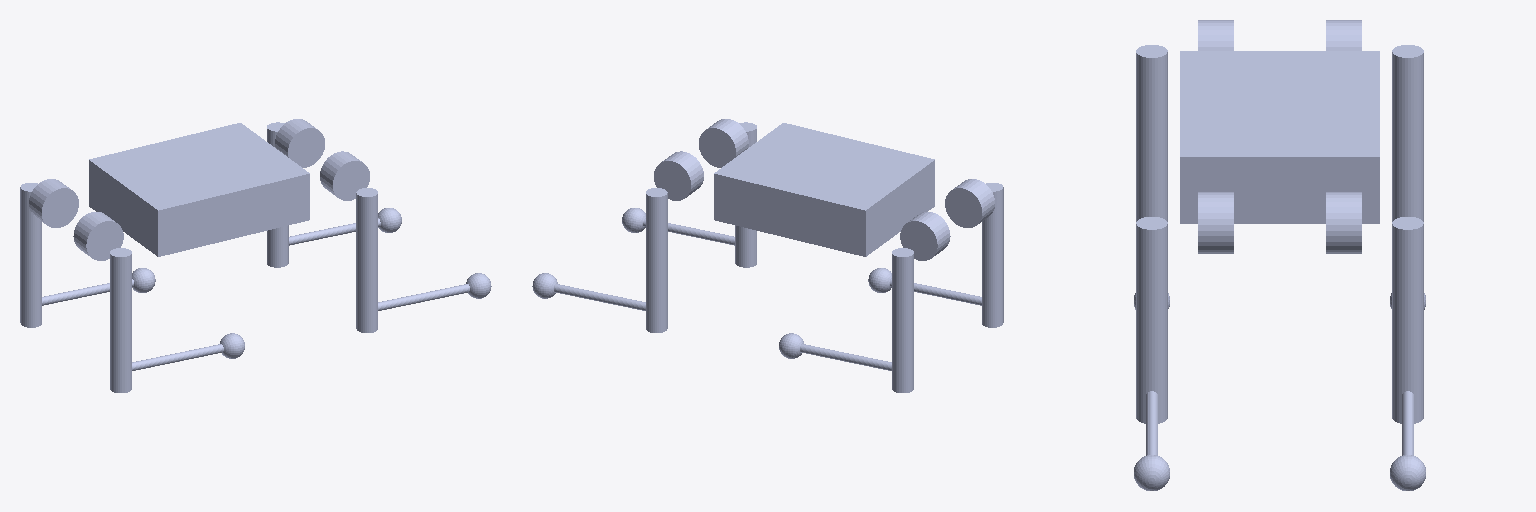
URDF robot description (PongBot_R_V1.0):
<?xml version="1.0" encoding="utf-8"?>
<!-- This URDF was automatically created by SolidWorks to URDF Exporter! Originally created by [author] ([email redacted]) 
     Commit Version: 1.6.0-4-g7f85cfe  Build Version: 1.6.7995.38578
     For more information, please see http://wiki.ros.org/sw_urdf_exporter -->
<robot
  name="PongBot_R_V1.0">
  <link
    name="BODY">
    <inertial>
      <origin
        xyz="-0.00654811 -0.00370864 -0.00412211"
        rpy="0 0 0" />
      <mass
        value="34.01149347" />         <!-- 기존에 가져온 값 : 30.49349326 -->
      <inertia
        ixx="0.41021871"
        ixy="-0.01410035"
        ixz="0.00530174"
        iyy="1.27775339"
        iyz="-0.00002209"
        izz="1.61653207" />
    </inertial>
    <visual>
      <origin
        xyz="0 0 0"
        rpy="0 0 0" />
      <geometry>
        <!-- <mesh -->
          <!-- filename="../meshes/BODY.STL" /> -->
        <box size = "0.478 0.38 0.14"/>  
      </geometry>
      <material
        name="">
        <color
          rgba="0.79216 0.81961 0.93333 1" />
      </material>
    </visual>
    <collision>
      <origin
        xyz="0 0 0"
        rpy="0 0 0" />
      <geometry>
        <!-- <mesh -->
          <!-- filename="../meshes/BODY.STL" /> -->
        <box size = "0.478 0.38 0.14"/>  
      </geometry>
    </collision>
  </link>

  <link
    name="FL_HIP">
    <inertial>
      <origin
        xyz="-0.00531965 -0.03425838 -0.00012951"
        rpy="0 0 0" />
      <mass
        value="2.73800000" />                        <!-- 기존에 가져온 값 : 2.56168131 -->
      <inertia
        ixx="0.00418335"
        ixy="0.00056030"
        ixz="-0.00003915"
        iyy="0.00565772"
        iyz="0.00002505"
        izz="0.00430654" />
    </inertial>
    <visual>
      <origin
        xyz="0 0.02 0"
        rpy="-1.5708 0 0" />
      <geometry>
        <!-- <mesh -->
          <!-- filename="../meshes/FL_HIP.STL" /> -->
        <cylinder radius="0.059" length="0.07" />
      </geometry>
      <material
        name="">
        <color
          rgba="0.79216 0.81961 0.93333 1" />
      </material>
    </visual>
    <!-- <collision>
      <origin
        xyz="0 0 0"
        rpy="0 0 0" />
      <geometry>
        <mesh
          filename="../meshes/FL_HIP.STL" />
      </geometry>
    </collision> -->
  </link>
  <joint
    name="FL_HR_JOINT"
    type="revolute">
    <origin
      xyz="0.3875 0.102 0"
      rpy="0 0 0" />
    <parent
      link="BODY" />
    <child
      link="FL_HIP" />
    <axis
      xyz="1 0 0" />
    <limit
      lower="-0.349066"
      upper="0.349066"
      effort="200"
      velocity="13" />      
      <!-- effor = 27A 기준으로 해둠 -->
  </joint>
  <link
    name="FL_THIGH">
    <inertial>
      <origin
        xyz="-0.00684056 -0.04704750 -0.05190486"
        rpy="0 0 0" />
      <mass
        value="5.66665000" />
      <inertia
        ixx="0.07631273"
        ixy="0.00182006"
        ixz="-0.00420065"
        iyy="0.06908437"
        iyz="0.01380510"
        izz="0.01790240" />
    </inertial>
    <visual>
      <origin
        xyz="0 0 -0.2045"
        rpy="0 0 0" />
      <geometry>
        <!-- <mesh -->
          <!-- filename="../meshes/FL_THIGH.STL" /> -->
        <cylinder radius="0.030" length="0.409"/>
      </geometry>
      <material
        name="">
        <color
          rgba="0.79216 0.81961 0.93333 1" />
      </material>
    </visual>

    <collision>
      <origin
        xyz="0 0 0"
        rpy="1.5709 0 0" />
      <geometry>
        <!-- <mesh
          filename="../meshes/FL_THIGH.STL" /> -->
        <cylinder radius="0.059" length="0.050"/>
      </geometry>
    </collision>
    
    <collision>
      <origin
        xyz="-0.029 0 -0.0995"
        rpy="0 0 0" />
      <geometry>
        <!-- <mesh
          filename="../meshes/FL_THIGH.STL" /> -->
        <box size="0.060 0.050 0.3"/>
      </geometry>
    </collision>
  </link>
  <joint
    name="FL_HP_JOINT"
    type="revolute">
    <origin
      xyz="0 0.142 0"
      rpy="0 0 0" />
    <parent
      link="FL_HIP" />
    <child
      link="FL_THIGH" />
    <axis
      xyz="0 1 0" />
    <limit
      lower="-0.366519"
      upper="1.5708"
      effort="200"
      velocity="13" />
  </joint>
  <link
    name="FL_CALF">
    <inertial>
      <origin
        xyz="0.00814028 0 -0.0924456"
        rpy="0 0 0" />
      <mass
        value="0.75531736" />
      <inertia
        ixx="0.00815522"
        ixy="0"
        ixz="0.00056185"
        iyy="0.00823583"
        iyz="0"
        izz="0.00016373" />
    </inertial>
    <visual>
      <origin
        xyz="0 0 -0.18"
        rpy="0 0 0" />
      <geometry>
        <!-- <mesh
          filename="../meshes/FL_CALF.STL" /> -->
        <cylinder radius="0.012" length="0.36"/>
      </geometry>
      <material
        name="">
        <color
          rgba="0.79216 0.81961 0.93333 1" />
      </material>
    </visual>
    <collision>
      <origin
        xyz="0 0 0"
        rpy="0 0 0" />
      <geometry>
        <mesh
          filename="../meshes/FL_CALF.STL" />
      </geometry>
    </collision>
  </link>
  <joint
    name="FL_KN_JOINT"
    type="revolute">
    <origin
      xyz="0 0 -0.35"
      rpy="0 0 0" />
    <parent
      link="FL_THIGH" />
    <child
      link="FL_CALF" />
    <axis
      xyz="0 1 0" />
    <limit
      lower="-2.58309"
      upper="-0.488692"
      effort="200"
      velocity="13" />
  </joint>
  <link
    name="FL_TIP">
    <inertial>
      <origin
        xyz="-0.0016622 -9.048E-05 -0.00113793"
        rpy="0 0 0" />
      <mass
        value="0.124" />
      <inertia
        ixx="5.248E-05"
        ixy="0"
        ixz="-7.12E-06"
        iyy="5.749E-05"
        iyz="1E-08"
        izz="4.442E-05" />
    </inertial>
    <visual>
      <origin
        xyz="0 0 0"
        rpy="0 0 0" />
      <geometry>
        <!-- <mesh
          filename="../meshes/FL_TIP.STL" /> -->
        <sphere radius="0.035246577"/>
      </geometry>
      <material
        name="">
        <color
          rgba="0.79216 0.81961 0.93333 1" />
      </material>
    </visual>
    <collision>
      <origin
        xyz="0 0 0"
        rpy="0 0 0" />
      <geometry>
        <!-- <mesh
          filename="../meshes/FL_TIP.STL" /> -->
        <sphere radius="0.035246577"/>
      </geometry>
    </collision>
  </link>
  <joint
    name="FL_TIP_JOINT"
    type="fixed">
    <origin
      xyz="0 0 -0.35"
      rpy="0 0 0" />
    <parent
      link="FL_CALF" />
    <child
      link="FL_TIP" />
    <axis
      xyz="0 0 0" />
  </joint>

  <link
    name="FR_HIP">
    <inertial>
      <origin
        xyz="-0.00528573 0.03425838 -0.00007847"
        rpy="0 0 0" />
      <mass
        value="2.73800000" />                              <!-- 2.56168131 -->
      <inertia
        ixx="0.00418247"
        ixy="-0.00056353"
        ixz="-0.00003878"
        iyy="0.00565874"
        iyz="-0.00002992"
        izz="0.00430844" />
    </inertial>
    <visual>
      <origin
        xyz="0 -0.02 0"
        rpy="-1.5708 0 0" />
      <geometry>
        <!-- <mesh
          filename="../meshes/FR_HIP.STL" /> -->
        <cylinder radius="0.059" length="0.07" />
      </geometry>
      <material
        name="">
        <color
          rgba="0.79216 0.81961 0.93333 1" />
      </material>
    </visual>
    <!-- <collision>
      <origin
        xyz="0 0 0"
        rpy="0 0 0" />
      <geometry>
        <mesh
          filename="../meshes/FR_HIP.STL" />
      </geometry>
    </collision> -->
  </link>
  <joint
    name="FR_HR_JOINT"
    type="revolute">
    <origin
      xyz="0.3875 -0.102 0"
      rpy="0 0 0" />
    <parent
      link="BODY" />
    <child
      link="FR_HIP" />
    <axis
      xyz="1 0 0" />
    <limit
      lower="-0.349066"
      upper="0.349066"
      effort="200"
      velocity="13" />
  </joint>
  <link
    name="FR_THIGH">
    <inertial>
      <origin
        xyz="-0.00682391 0.04704750 -0.05178585"
        rpy="0 0 0" />
      <mass
        value="5.66665000" />
      <inertia
        ixx="0.07625584"
        ixy="-0.00179078"
        ixz="-0.00415400"
        iyy="0.06900427"
        iyz="-0.01378723"
        izz="0.01787918" />
    </inertial>
    <visual>
      <origin
        xyz="0 0 -0.2045"
        rpy="0 0 0" />
      <geometry>
        <!-- <mesh
          filename="../meshes/FR_THIGH.STL" /> -->
        <cylinder radius="0.030" length="0.409"/>
      </geometry>
      <material
        name="">
        <color
          rgba="0.79216 0.81961 0.93333 1" />
      </material>
    </visual>

    <collision>
      <origin
        xyz="0 0 0"
        rpy="1.5709 0 0" />
      <geometry>
        <!-- <mesh
          filename="../meshes/FR_THIGH.STL" /> -->
        <cylinder radius="0.059" length="0.050"/>
      </geometry>
    </collision>

    <collision>
      <origin
        xyz="-0.029 0 -0.0995"
        rpy="0 0 0" />
      <geometry>
        <!-- <mesh
          filename="../meshes/FR_THIGH.STL" /> -->
        <box size="0.060 0.050 0.3"/>
      </geometry>
    </collision>
  </link>
  <joint
    name="FR_HP_JOINT"
    type="revolute">
    <origin
      xyz="0 -0.142 0"
      rpy="0 0 0" />
    <parent
      link="FR_HIP" />
    <child
      link="FR_THIGH" />
    <axis
      xyz="0 1 0" />
    <limit
      lower="-0.366519"
      upper="1.5708"
      effort="200"
      velocity="13" />
  </joint>
  <link
    name="FR_CALF">
    <inertial>
      <origin
        xyz="0.00814028 0 -0.0924456"
        rpy="0 0 0" />
      <mass
        value="0.75531736" />
      <inertia
        ixx="0.00815522"
        ixy="0"
        ixz="0.00056185"
        iyy="0.00823583"
        iyz="0"
        izz="0.00016373" />
    </inertial>
    <visual>
      <origin
        xyz="0 0 -0.18"
        rpy="0 0 0" />
      <geometry>
        <!-- <mesh
          filename="../meshes/FR_CALF.STL" /> -->
        <cylinder radius="0.012" length="0.36"/>
      </geometry>
      <material
        name="">
        <color
          rgba="0.79216 0.81961 0.93333 1" />
      </material>
    </visual>
    <collision>
      <origin
        xyz="0 0 0"
        rpy="0 0 0" />
      <geometry>
        <mesh
          filename="../meshes/FR_CALF.STL" />
      </geometry>
    </collision>
  </link>
  <joint
    name="FR_KN_JOINT"
    type="revolute">
    <origin
      xyz="0 0 -0.35"
      rpy="0 0 0" />
    <parent
      link="FR_THIGH" />
    <child
      link="FR_CALF" />
    <axis
      xyz="0 1 0" />
    <limit
      lower="-2.58309"
      upper="-0.488692"
      effort="200"
      velocity="13" />
  </joint>
  <link
    name="FR_TIP">
    <inertial>
      <origin
        xyz="-0.0016622 -9.048E-05 -0.00113793"
        rpy="0 0 0" />
      <mass
        value="0.124" />
      <inertia
        ixx="5.248E-05"
        ixy="0"
        ixz="-7.12E-06"
        iyy="5.749E-05"
        iyz="1E-08"
        izz="4.442E-05" />
    </inertial>
    <visual>
      <origin
        xyz="0 0 0"
        rpy="0 0 0" />
      <geometry>
        <!-- <mesh -->
          <!-- filename="../meshes/FR_TIP.STL" /> -->
        <sphere radius="0.035246577"/>
      </geometry>
      <material
        name="">
        <color
          rgba="0.79216 0.81961 0.93333 1" />
      </material>
    </visual>
    <collision>
      <origin
        xyz="0 0 0"
        rpy="0 0 0" />
      <geometry>
        <!-- <mesh
          filename="../meshes/FR_TIP.STL" /> -->
        <sphere radius="0.035246577"/>
      </geometry>
    </collision>
  </link>
  <joint
    name="FR_TIP_JOINT"
    type="fixed">
    <origin
      xyz="0 0 -0.35"
      rpy="0 0 0" />
    <parent
      link="FR_CALF" />
    <child
      link="FR_TIP" />
    <axis
      xyz="0 0 0" />
  </joint>

  <link
    name="RL_HIP">
    <inertial>
      <origin
        xyz="0.00531965 -0.03425838 -0.00029224"
        rpy="0 0 0" />
      <mass
        value="2.73800000" />                          <!-- 2.56168131 -->
      <inertia
        ixx="0.00418316"
        ixy="-0.00056030"
        ixz="0.00001821"
        iyy="0.00565753"
        iyz="0.00001451"
        izz="0.00430654" />
    </inertial>
    <visual>
      <origin
        xyz="0 0.02 0"
        rpy="-1.5708 0 0" />
      <geometry>
        <!-- <mesh
          filename="../meshes/RL_HIP.STL" /> -->
        <cylinder radius="0.059" length="0.07" />
      </geometry>
      <material
        name="">
        <color
          rgba="0.79216 0.81961 0.93333 1" />
      </material>
    </visual>
    <!-- <collision>
      <origin
        xyz="0 0 0"
        rpy="0 0 0" />
      <geometry>
        <mesh
          filename="../meshes/RL_HIP.STL" />
      </geometry>
    </collision> -->
  </link>
  <joint
    name="RL_HR_JOINT"
    type="revolute">
    <origin
      xyz="-0.3875 0.102 0"
      rpy="0 0 0" />
    <parent
      link="BODY" />
    <child
      link="RL_HIP" />
    <axis
      xyz="1 0 0" />
    <limit
      lower="-0.349066"
      upper="0.349066"
      effort="200"
      velocity="13" />
  </joint>
  <link
    name="RL_THIGH">
    <inertial>
      <origin
        xyz="-0.00691464 -0.04704750 -0.05199316"
        rpy="0 0 0" />
      <mass
        value="5.66665000" />
      <inertia
        ixx="0.07626074"
        ixy="0.00178209"
        ixz="-0.00417540"
        iyy="0.06902662"
        iyz="0.01375985"
        izz="0.01789662" />
    </inertial>
    <visual>
      <origin
        xyz="0 0 -0.2045"
        rpy="0 0 0" />
      <geometry>
        <!-- <mesh
          filename="../meshes/RL_THIGH.STL" /> -->
        <cylinder radius="0.030" length="0.409"/>
      </geometry>
      <material
        name="">
        <color
          rgba="0.79216 0.81961 0.93333 1" />
      </material>
    </visual>

    <collision>
      <origin
        xyz="0 0 0"
        rpy="1.5709 0 0" />
      <geometry>
        <!-- <mesh
          filename="../meshes/RL_THIGH.STL" /> -->
        <cylinder radius="0.059" length="0.050"/>
      </geometry>
    </collision>

    <collision>
      <origin
        xyz="-0.029 0 -0.0995"
        rpy="0 0 0" />
      <geometry>
        <!-- <mesh
          filename="../meshes/RL_THIGH.STL" /> -->
        <box size="0.060 0.050 0.3"/>
      </geometry>
    </collision>

  </link>
  <joint
    name="RL_HP_JOINT"
    type="revolute">
    <origin
      xyz="0 0.142 0"
      rpy="0 0 0" />
    <parent
      link="RL_HIP" />
    <child
      link="RL_THIGH" />
    <axis
      xyz="0 1 0" />
    <limit
      lower="-0.366519"
      upper="1.5708"
      effort="200"
      velocity="13" />
  </joint>
  <link
    name="RL_CALF">
    <inertial>
      <origin
        xyz="0.00814028 0 -0.0924456"
        rpy="0 0 0" />
      <mass
        value="0.75531736" />
      <inertia
        ixx="0.00815522"
        ixy="0"
        ixz="0.00056185"
        iyy="0.00823583"
        iyz="0"
        izz="0.00016373" />
    </inertial>
    <visual>
      <origin
        xyz="0 0 -0.18"
        rpy="0 0 0" />
      <geometry>
        <!-- <mesh -->
          <!-- filename="../meshes/RL_CALF.STL" /> -->
        <cylinder radius="0.012" length="0.36"/>
      </geometry>
      <material
        name="">
        <color
          rgba="0.79216 0.81961 0.93333 1" />
      </material>
    </visual>
    <collision>
      <origin
        xyz="0 0 0"
        rpy="0 0 0" />
      <geometry>
        <mesh
          filename="../meshes/RL_CALF.STL" />
      </geometry>
    </collision>
  </link>
  <joint
    name="RL_KN_JOINT"
    type="revolute">
    <origin
      xyz="0 0 -0.35"
      rpy="0 0 0" />
    <parent
      link="RL_THIGH" />
    <child
      link="RL_CALF" />
    <axis
      xyz="0 1 0" />
    <limit
      lower="-2.58309"
      upper="-0.488692"
      effort="200"
      velocity="13" />
  </joint>
  <link
    name="RL_TIP">
    <inertial>
      <origin
        xyz="-0.0016622 -9.048E-05 -0.0011379"
        rpy="0 0 0" />
      <mass
        value="0.124" />
      <inertia
        ixx="5.248E-05"
        ixy="0"
        ixz="-7.12E-06"
        iyy="5.749E-05"
        iyz="1E-08"
        izz="4.442E-05" />
    </inertial>
    <visual>
      <origin
        xyz="0 0 0"
        rpy="0 0 0" />
      <geometry>
        <!-- <mesh
          filename="../meshes/RL_TIP.STL" /> -->
        <sphere radius="0.035246577"/>
      </geometry>
      <material
        name="">
        <color
          rgba="0.79216 0.81961 0.93333 1" />
      </material>
    </visual>
    <collision>
      <origin
        xyz="0 0 0"
        rpy="0 0 0" />
      <geometry>
        <!-- <mesh
          filename="../meshes/RL_TIP.STL" /> -->
        <sphere radius="0.035246577"/>
      </geometry>
    </collision>
  </link>
  <joint
    name="RL_TIP_JOINT"
    type="fixed">
    <origin
      xyz="0 0 -0.35"
      rpy="0 0 0" />
    <parent
      link="RL_CALF" />
    <child
      link="RL_TIP" />
    <axis
      xyz="0 0 0" />
  </joint>

  <link
    name="RR_HIP">
    <inertial>
      <origin
        xyz="0.00527649 0.03425838 -0.00034165"
        rpy="0 0 0" />
      <mass
        value="2.73800000" />                            <!-- 2.56168131 -->
      <inertia
        ixx="0.00418243"
        ixy="0.00056430"
        ixz="0.00001835"
        iyy="0.00565870"
        iyz="-0.00000979"
        izz="0.00430844" />
    </inertial>
    <visual>
      <origin
        xyz="0 -0.02 0"
        rpy="-1.5708 0 0" />
      <geometry>
        <!-- <mesh
          filename="../meshes/RR_HIP.STL" /> -->
        <cylinder radius="0.059" length="0.07" />
      </geometry>
      <material
        name="">
        <color
          rgba="0.79216 0.81961 0.93333 1" />
      </material>
    </visual>
    <!-- <collision>
      <origin
        xyz="0 0 0"
        rpy="0 0 0" />
      <geometry>
        <mesh
          filename="../meshes/RR_HIP.STL" />
      </geometry>
    </collision> -->
  </link>
  <joint
    name="RR_HR_JOINT"
    type="revolute">
    <origin
      xyz="-0.3875 -0.102 0"
      rpy="0 0 0" />
    <parent
      link="BODY" />
    <child
      link="RR_HIP" />
    <axis
      xyz="1 0 0" />
    <limit
      lower="-0.349066"
      upper="0.349066"
      effort="200"
      velocity="13" />
  </joint>
  <link
    name="RR_THIGH">
    <inertial>
      <origin
        xyz="-0.00686333 0.04704750 -0.05189416"
        rpy="0 0 0" />
      <mass
        value="5.66665000" />
      <inertia
        ixx="0.07619221"
        ixy="-0.00177057"
        ixz="-0.00413822"
        iyy="0.06893758"
        iyz="-0.01373171"
        izz="0.01787612" />
    </inertial>
    <visual>
      <origin
        xyz="0 0 -0.2045"
        rpy="0 0 0" />
      <geometry>
        <!-- <mesh
          filename="../meshes/RR_THIGH.STL" /> -->
        <cylinder radius="0.030" length="0.409"/>
      </geometry>
      <material
        name="">
        <color
          rgba="0.79216 0.81961 0.93333 1" />
      </material>
    </visual>
    <collision>
      <origin
        xyz="0 0 0"
        rpy="1.5709 0 0" />
      <geometry>
        <!-- <mesh
          filename="../meshes/RR_THIGH.STL" /> -->
        <cylinder radius="0.059" length="0.050"/>
      </geometry>
    </collision>
    <collision>
      <origin
        xyz="-0.029 0 -0.0995"
        rpy="0 0 0" />
      <geometry>
        <!-- <mesh
          filename="../meshes/RR_THIGH.STL" /> -->
        <box size="0.060 0.050 0.3"/>
      </geometry>
    </collision>
  </link>
  <joint
    name="RR_HP_JOINT"
    type="revolute">
    <origin
      xyz="0 -0.142 0"
      rpy="0 0 0" />
    <parent
      link="RR_HIP" />
    <child
      link="RR_THIGH" />
    <axis
      xyz="0 1 0" />
    <limit
      lower="-0.366519"
      upper="1.5708"
      effort="200"
      velocity="13" />
  </joint>
  <link
    name="RR_CALF">
    <inertial>
      <origin
        xyz="0.0081403 0 -0.092446"
        rpy="0 0 0" />
      <mass
        value="0.75532" />
      <inertia
        ixx="0.0081552"
        ixy="0"
        ixz="0.00056185"
        iyy="0.0082358"
        iyz="0"
        izz="0.00016373" />
    </inertial>
    <visual>
      <origin
        xyz="0 0 -0.18"
        rpy="0 0 0" />
      <geometry>
        <!-- <mesh
          filename="../meshes/RR_CALF.STL" /> -->
        <cylinder radius="0.012" length="0.36"/>
      </geometry>
      <material
        name="">
        <color
          rgba="0.79216 0.81961 0.93333 1" />
      </material>
    </visual>
    <collision>
      <origin
        xyz="0 0 0"
        rpy="0 0 0" />
      <geometry>
        <mesh
          filename="../meshes/RR_CALF.STL" />
      </geometry>
    </collision>
  </link>
  <joint
    name="RR_KN_JOINT"
    type="revolute">
    <origin
      xyz="0 0 -0.35"
      rpy="0 0 0" />
    <parent
      link="RR_THIGH" />
    <child
      link="RR_CALF" />
    <axis
      xyz="0 1 0" />
    <limit
      lower="-2.58309"
      upper="-0.488692"
      effort="200"
      velocity="13" />
  </joint>
  <link
    name="RR_TIP">
    <inertial>
      <origin
        xyz="-0.0016622 -9.048E-05 -0.00113793"
        rpy="0 0 0" />
      <mass
        value="0.124" />
      <inertia
        ixx="5.248E-05"
        ixy="0"
        ixz="-7.12E-06"
        iyy="5.749E-05"
        iyz="1E-08"
        izz="4.442E-05" />
    </inertial>
    <visual>
      <origin
        xyz="0 0 0"
        rpy="0 0 0" />
      <geometry>
        <!-- <mesh
          filename="../meshes/RR_TIP.STL" /> -->
        <sphere radius="0.035246577"/>
      </geometry>
      <material
        name="">
        <color
          rgba="0.79216 0.81961 0.93333 1" />
      </material>
    </visual>
    <collision>
      <origin
        xyz="0 0 0"
        rpy="0 0 0" />
      <geometry>
        <!-- <mesh
          filename="../meshes/RR_TIP.STL" /> -->
        <sphere radius="0.035246577"/>
      </geometry>
    </collision>
  </link>
  <joint
    name="RR_TIP_JOINT"
    type="fixed">
    <origin
      xyz="0 0 -0.35"
      rpy="0 0 0" />
    <parent
      link="RR_CALF" />
    <child
      link="RR_TIP" />
    <axis
      xyz="0 0 0" />
  </joint>
</robot>

--- Facts derived from the render (not from the file) ---
The picture shows the robot from 3 angles, left to right: view 1: azimuth 30°, elevation 25°; view 2: azimuth 150°, elevation 25°; view 3: azimuth 270°, elevation 25°; orthographic projection.
Model PongBot_R_V1.0 with 17 links and 16 joints (12 revolute, 4 fixed), rooted at BODY, posed joints at zero except 4 at the middle of their limits (FL_KN_JOINT = -1.54, FR_KN_JOINT = -1.54, RL_KN_JOINT = -1.54, RR_KN_JOINT = -1.54).
Visible links, largest first — view 1: BODY, RR_THIGH, FR_THIGH, RL_THIGH, RL_HIP, FR_HIP, RR_HIP, FL_HIP, FL_THIGH, FR_CALF, RR_CALF, RL_CALF (+1 smaller); view 2: BODY, RL_THIGH, FL_THIGH, RR_THIGH, RR_HIP, FL_HIP, RL_HIP, FR_HIP, FR_THIGH, FL_CALF, RL_CALF, RR_CALF (+1 smaller); view 3: BODY, FL_THIGH, FR_THIGH, RL_THIGH, RR_THIGH, FL_HIP, FR_HIP, RL_HIP, RR_HIP, FL_TIP, FR_TIP, FL_CALF (+1 smaller).
Boxes of the visible links, x1,y1,x2,y2 form: BODY: [89, 123, 309, 256]; RR_THIGH: [110, 248, 131, 392]; FR_THIGH: [356, 188, 377, 332]; RL_THIGH: [20, 183, 41, 327]; RL_HIP: [29, 179, 78, 227]; FR_HIP: [320, 151, 369, 200]; RR_HIP: [73, 212, 123, 260]; FL_HIP: [275, 119, 324, 167]; FL_THIGH: [267, 122, 288, 267]; FR_CALF: [378, 284, 469, 310]; RR_CALF: [132, 344, 223, 370]; RL_CALF: [42, 279, 133, 305]; BODY: [714, 123, 934, 256]; RL_THIGH: [892, 248, 913, 392]; FL_THIGH: [646, 188, 667, 332]; RR_THIGH: [982, 183, 1003, 327]; RR_HIP: [945, 179, 994, 227]; FL_HIP: [654, 151, 703, 200]; RL_HIP: [900, 212, 950, 260]; FR_HIP: [699, 119, 748, 167]; FR_THIGH: [735, 122, 756, 267]; FL_CALF: [554, 284, 645, 310]; RL_CALF: [800, 344, 891, 370]; RR_CALF: [890, 279, 981, 305]; BODY: [1180, 51, 1379, 223]; FL_THIGH: [1392, 217, 1423, 423]; FR_THIGH: [1136, 217, 1167, 423]; RL_THIGH: [1392, 45, 1423, 221]; RR_THIGH: [1136, 45, 1167, 221]; FL_HIP: [1326, 192, 1361, 253]; FR_HIP: [1198, 192, 1233, 253]; RL_HIP: [1326, 20, 1361, 50]; RR_HIP: [1198, 20, 1233, 50]; FL_TIP: [1390, 455, 1425, 490]; FR_TIP: [1134, 455, 1169, 490]; FL_CALF: [1402, 391, 1413, 455].
Bounding box of the posed robot: 1.22 × 0.5585 × 0.479 m (x, y, z).
Geometry: primitives only (box / cylinder / sphere), no mesh files.
